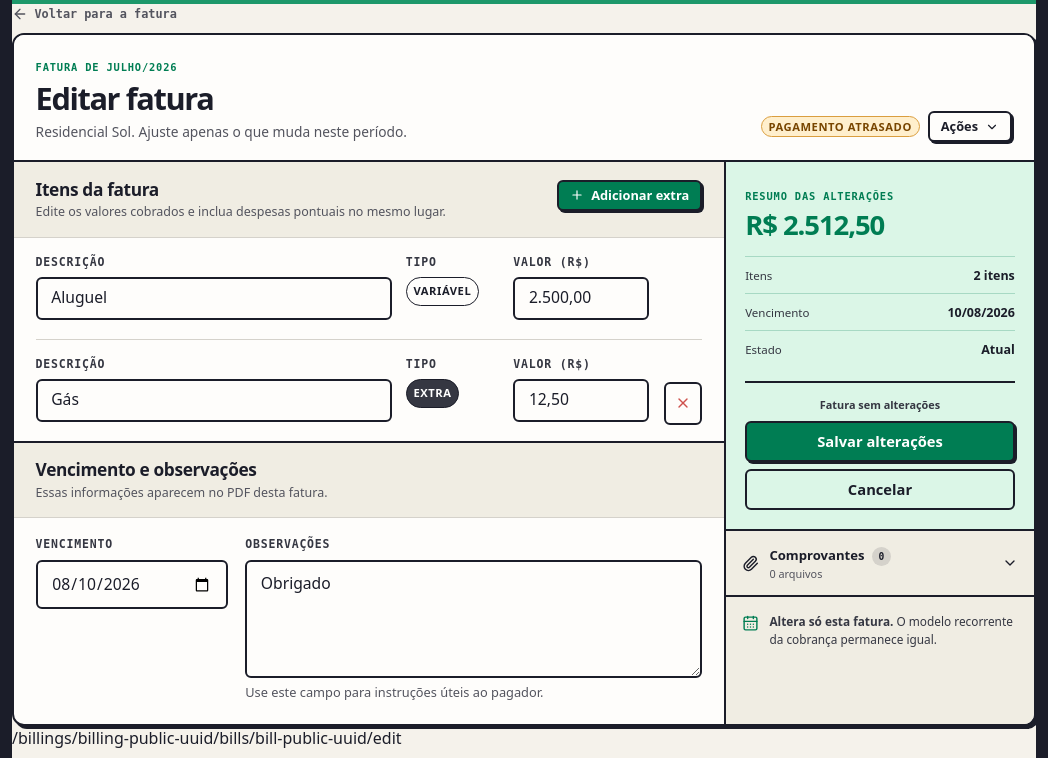
Test: presents invoice editing as one workspace with a live summary and disclosed records
This screenshot has width=1048, height=758.
Expected: the heading "Editar fatura" is shown, [36,77,213,119]
Expected: the element "Resumo das alterações" shows "R$ 2.512,50", [745,206,884,243]
Click the button with aria-label "Ações da fatura" at (970, 126), box [928,111,1012,142]
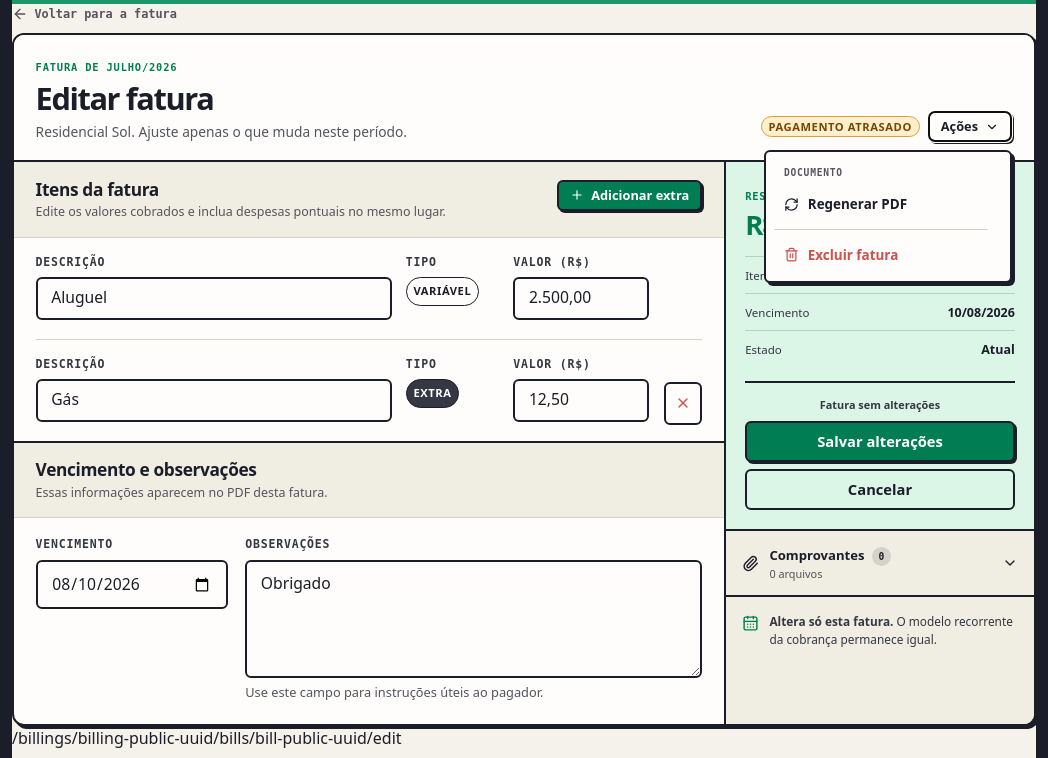
Press ArrowDown
Press Escape
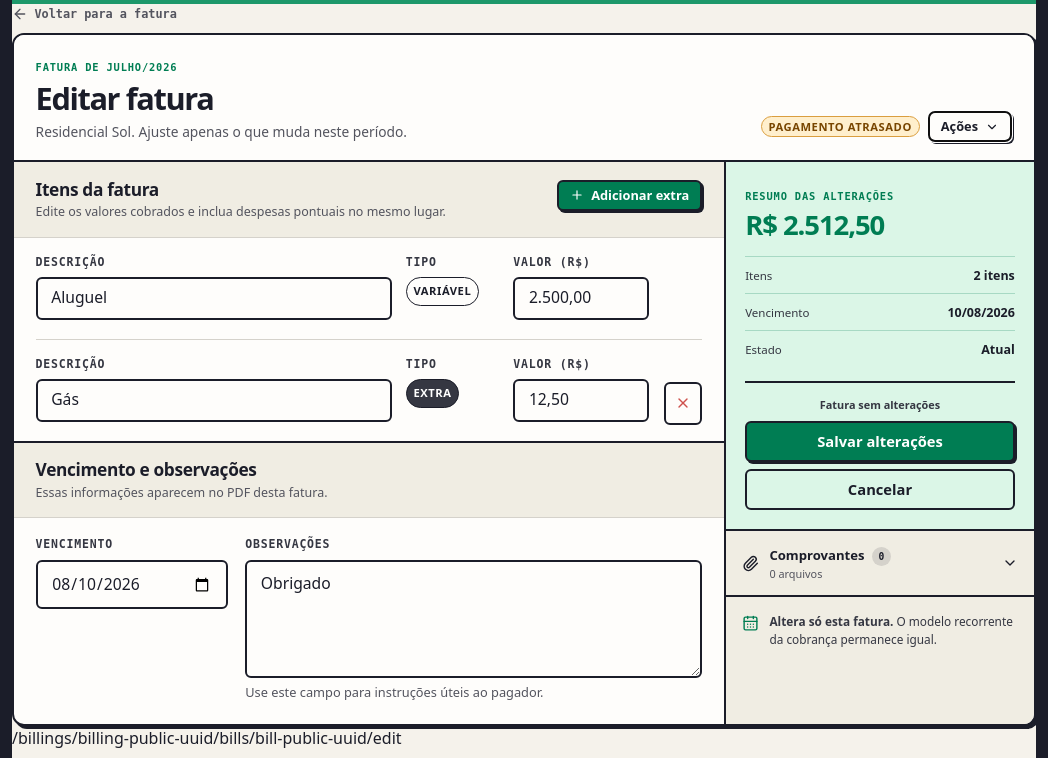
Expected: the field labelled "Anexar comprovantes" is not shown
Click the button "Comprovantes 0 0 arquivos" at (880, 563), box [726,531,1034,595]
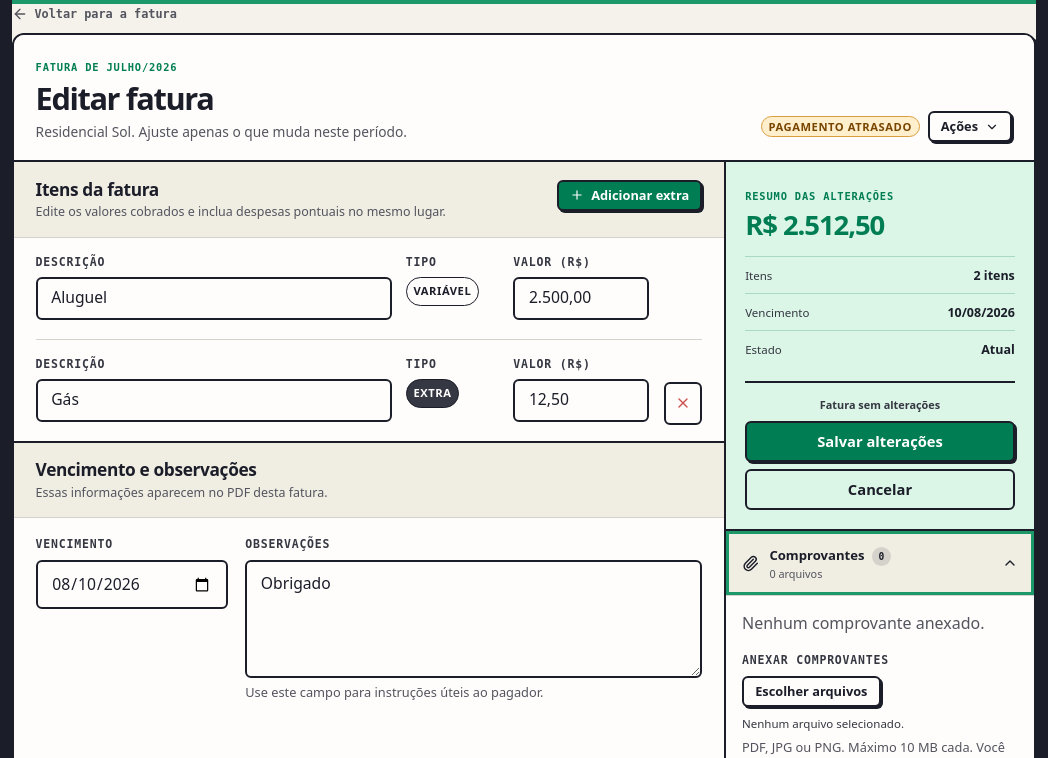
Expected: the button "Comprovantes 0 0 arquivos" is expanded, [726,531,1034,595]
Expected: the file field labelled "Anexar comprovantes" is shown, [742,652,889,666]
